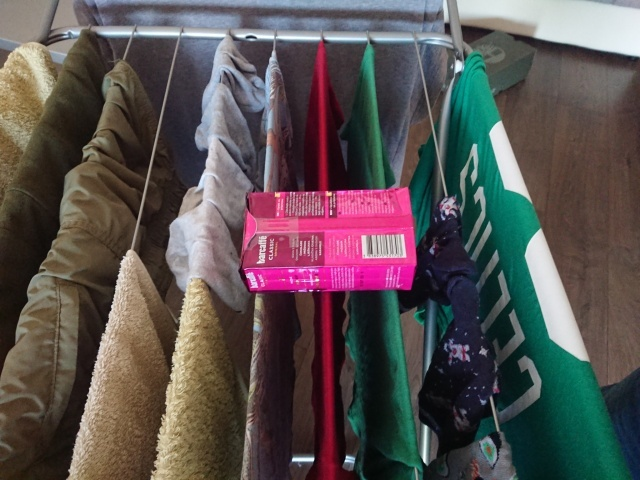Barcaffe Classic Original 225g: (235, 183, 420, 297)
